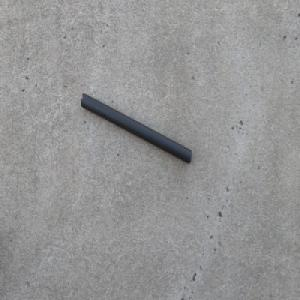LuggagePart: (80, 91, 192, 164)
